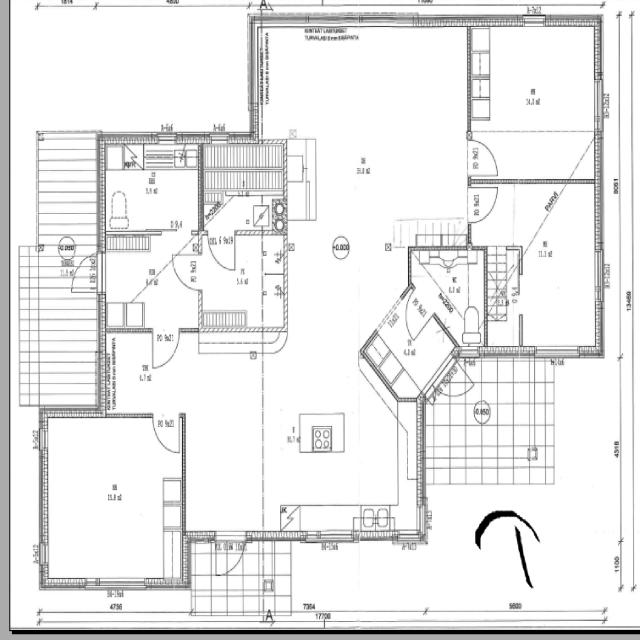door: (467, 136, 501, 180), (150, 325, 180, 371), (468, 183, 500, 226), (151, 412, 182, 456), (70, 252, 99, 296), (207, 232, 236, 273), (172, 251, 200, 292), (221, 540, 244, 578), (263, 328, 287, 354)
window: (303, 526, 357, 548), (92, 574, 148, 594), (532, 342, 582, 363), (590, 243, 605, 306), (590, 74, 605, 130), (394, 529, 421, 547), (520, 12, 546, 30), (37, 538, 50, 569), (154, 131, 178, 145), (208, 132, 230, 146)
zone: (39, 414, 181, 586), (470, 24, 598, 134), (520, 181, 600, 356), (103, 139, 203, 238), (407, 248, 485, 349), (199, 234, 281, 330), (98, 332, 155, 411), (484, 246, 520, 352), (216, 192, 285, 235), (262, 235, 284, 272)
